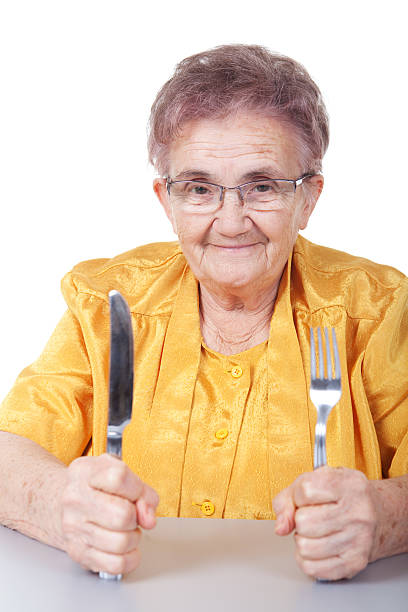knife: (97, 292, 135, 582)
